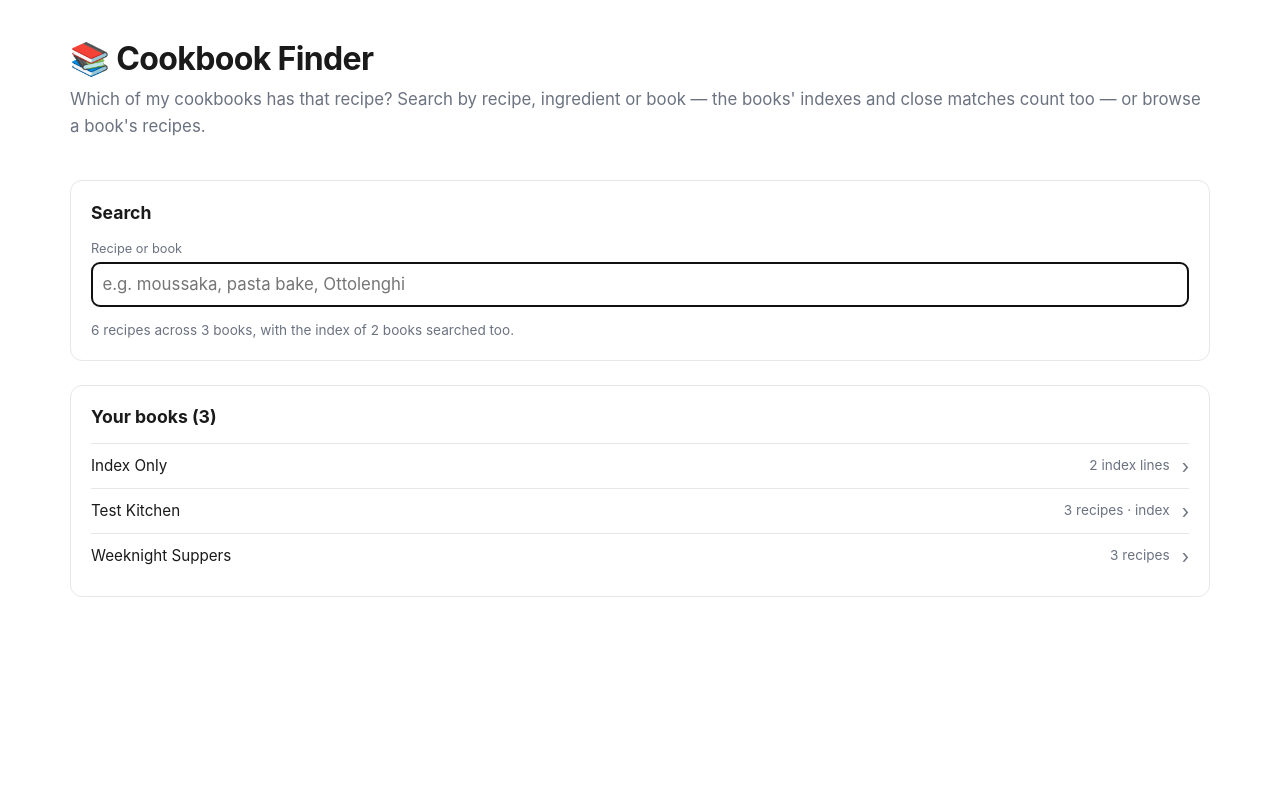
it: pages render › cookbooks: recipe search across books, exact match first
Type "pasta bake" into the search field named "Search recipes" at [640, 284], box left=91, top=262, right=1189, bottom=307
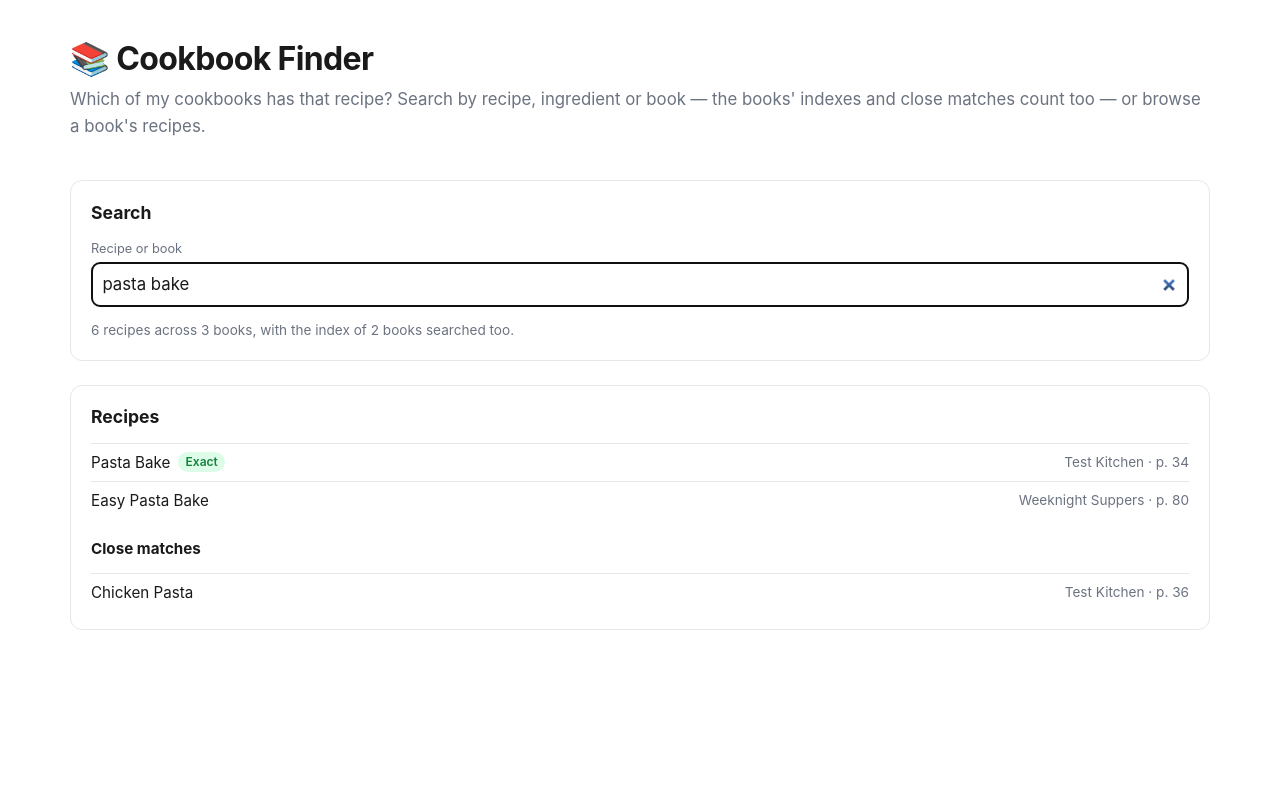
Check: the list item "Pasta Bake Exact Test Kitchen · p. 34" is shown, box left=91, top=443, right=1189, bottom=481
Check: the text "Easy Pasta Bake" is shown, box left=91, top=489, right=209, bottom=513
Check: the heading "Close matches" is shown, box left=91, top=539, right=201, bottom=558
Replace the text in the search field named "Search recipes" with "sushi" at [640, 284], box left=91, top=262, right=1189, bottom=307
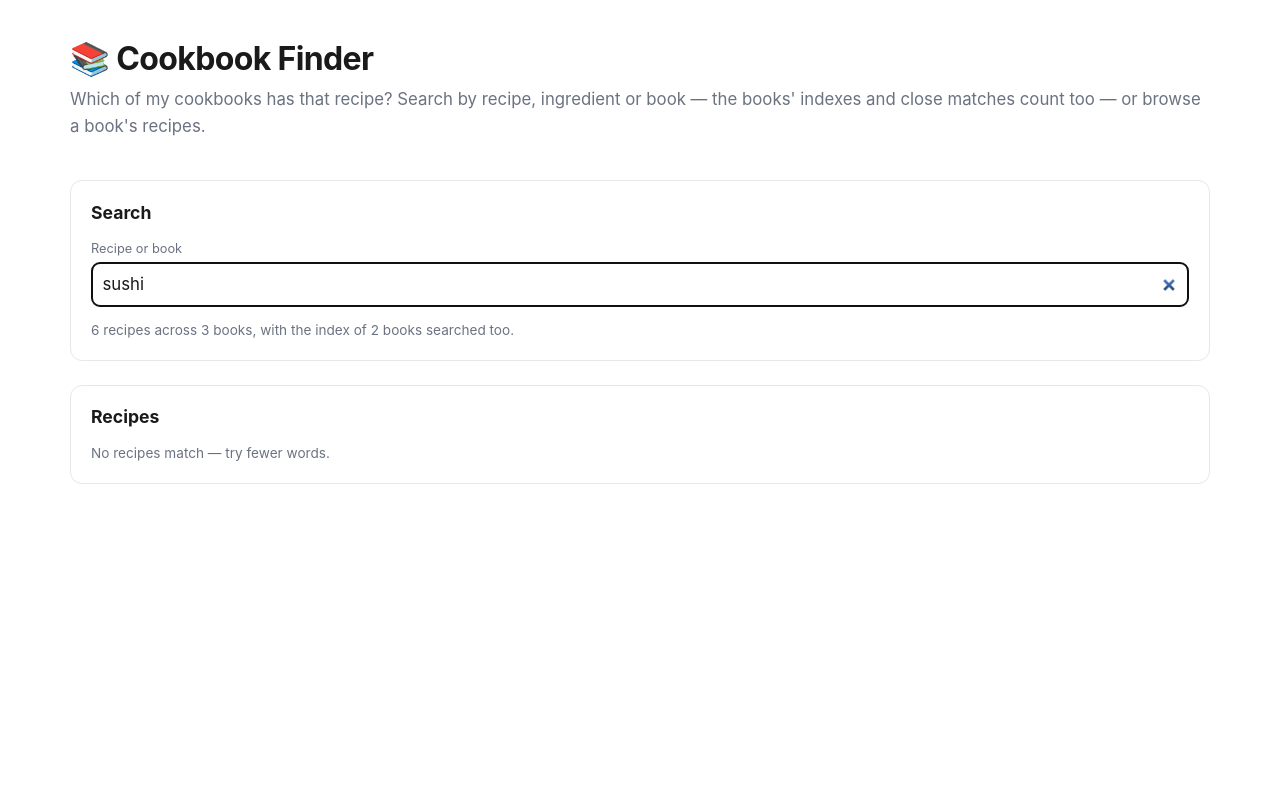
Check: the text "No recipes match — try fewer words." is shown, box left=91, top=445, right=330, bottom=461
